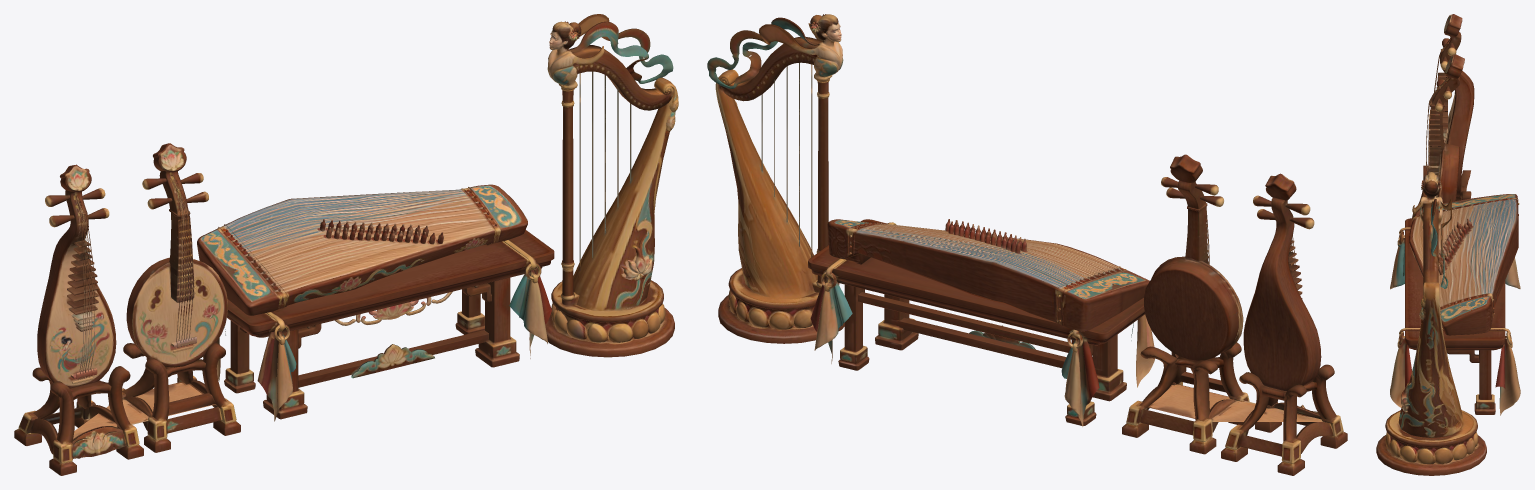
The model's file is strings.glb.
3 views of the same model, side by side, from view 1: azimuth 30°, elevation 25°; view 2: azimuth 150°, elevation 25°; view 3: azimuth 270°, elevation 25° (orthographic). The views are drawn at different scales.
Parts seen in each view (by area): view 1: tripo_46a5e8f7_d069_4075_a9e2_105adcd97a95; view 2: tripo_46a5e8f7_d069_4075_a9e2_105adcd97a95; view 3: tripo_46a5e8f7_d069_4075_a9e2_105adcd97a95.
Part boxes in pixels (x1,y1,x2,y2): tripo_46a5e8f7_d069_4075_a9e2_105adcd97a95: (14,14,678,475); tripo_46a5e8f7_d069_4075_a9e2_105adcd97a95: (707,14,1347,475); tripo_46a5e8f7_d069_4075_a9e2_105adcd97a95: (1376,14,1520,475).
Bounding box in the file's own units: 0.9995 × 0.48 × 0.2407.
1 material, 1 textured.
